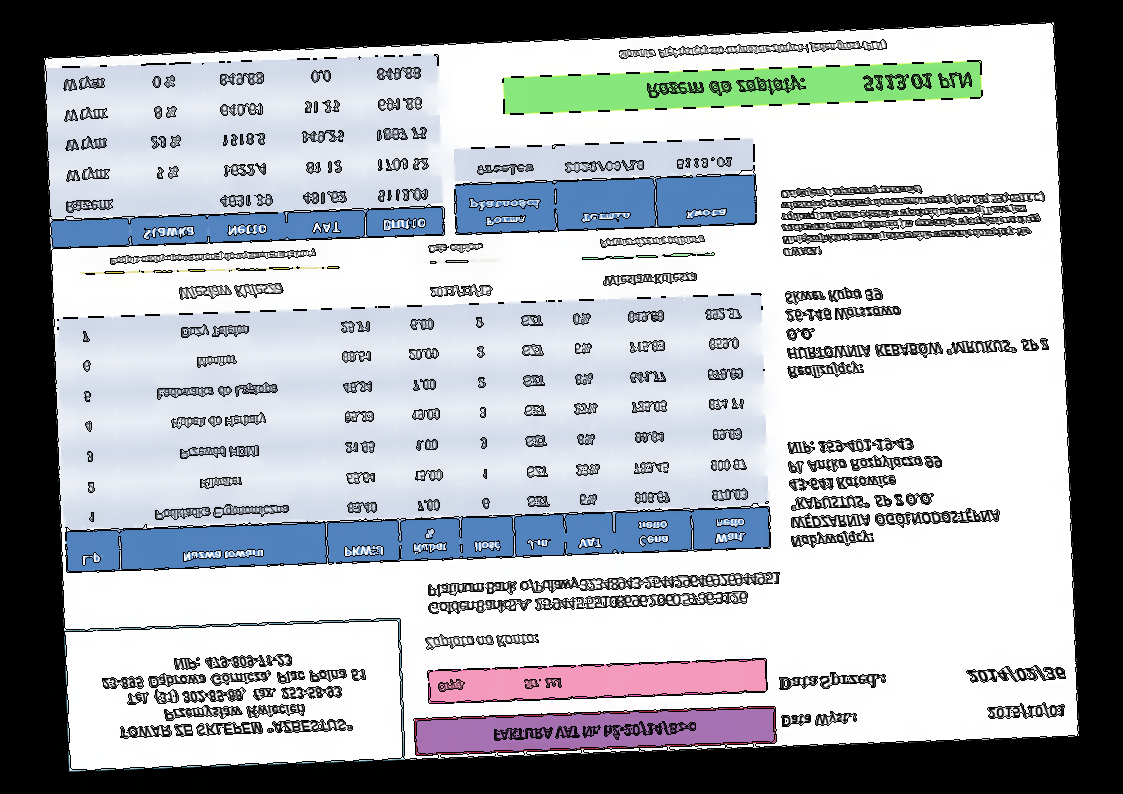Table: (57, 295, 770, 576), (45, 54, 445, 250), (451, 137, 758, 236)
TextBox: (783, 280, 1052, 382), (786, 431, 1005, 549), (98, 648, 371, 741), (778, 178, 1049, 259), (426, 569, 784, 617), (644, 69, 975, 103), (617, 37, 889, 62), (492, 717, 698, 746), (108, 247, 318, 269), (422, 629, 541, 653), (778, 668, 889, 692), (176, 280, 286, 303), (435, 676, 564, 695), (966, 661, 1067, 685), (601, 270, 699, 290), (598, 233, 706, 251), (986, 702, 1067, 722), (780, 709, 859, 729), (427, 281, 494, 301), (426, 241, 483, 256)
